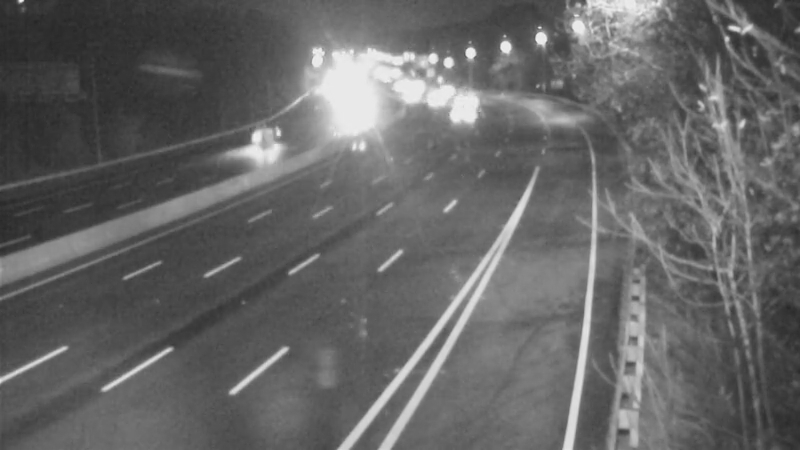vehicle: (442, 91, 492, 141), (232, 124, 282, 174)
